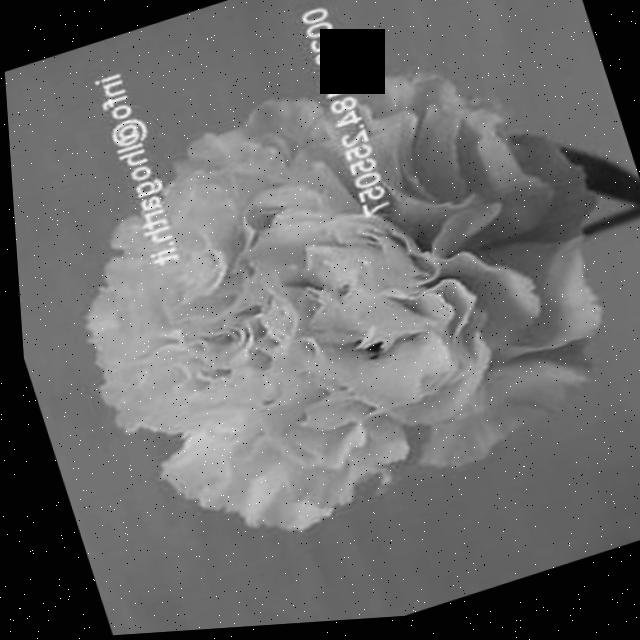carnation: (27, 28, 640, 575)
